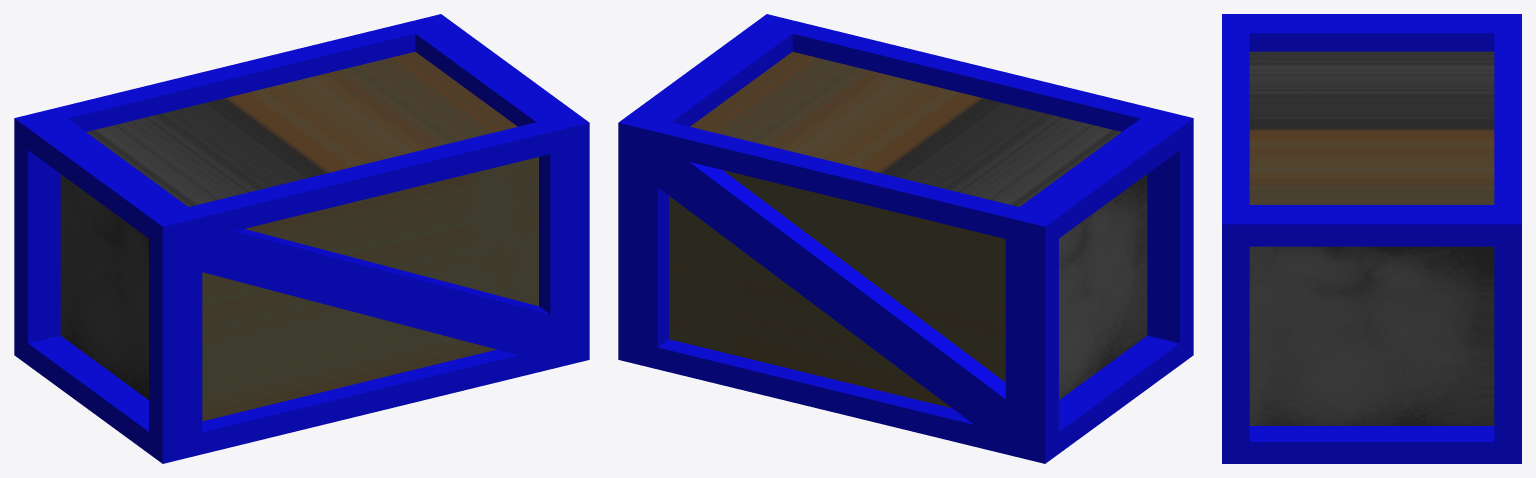
The picture shows the model from 3 angles, left to right: view 1: azimuth 30°, elevation 25°; view 2: azimuth 150°, elevation 25°; view 3: azimuth 270°, elevation 25°; orthographic projection.
Visible parts, largest first — view 1: Box; view 2: Box; view 3: Box.
Part boxes in pixels (x1,y1,x2,y2): Box: (14,14,589,463); Box: (618,14,1193,463); Box: (1222,14,1521,463).
Bounding box in the file's own units: 356 × 189 × 214.
